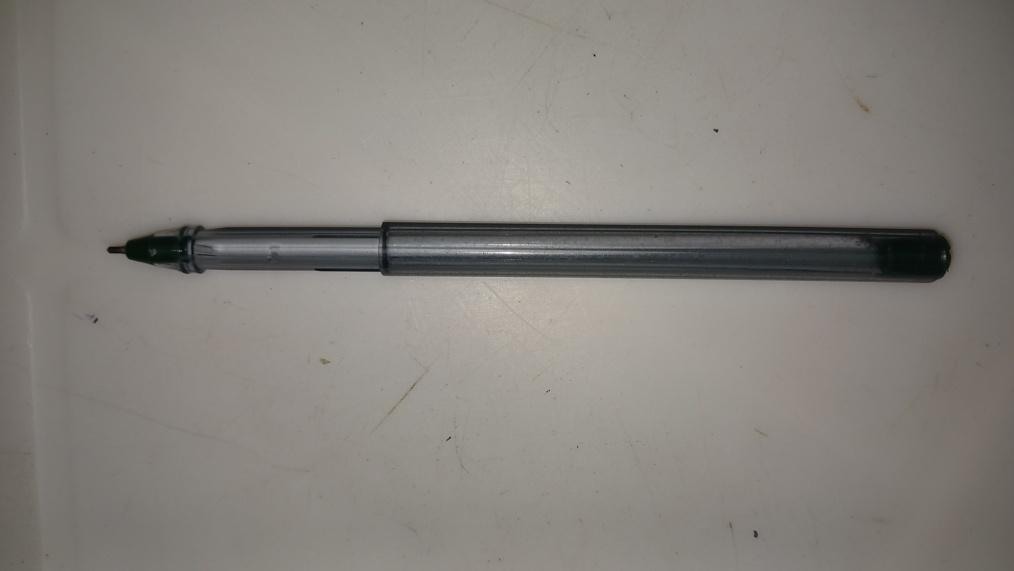pen: (103, 219, 958, 275)
